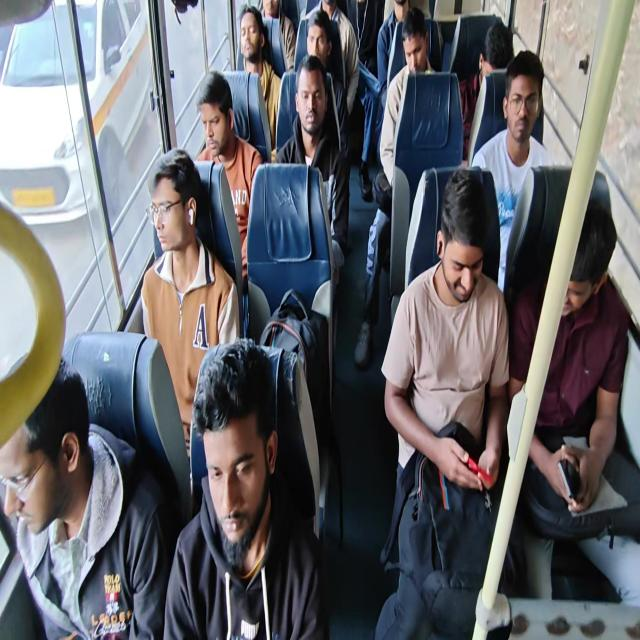person: (2, 1, 633, 638), (375, 166, 511, 638), (506, 172, 630, 600), (162, 336, 324, 638), (0, 356, 170, 639), (140, 147, 241, 498), (354, 6, 437, 369), (470, 49, 555, 294), (274, 54, 350, 274), (194, 69, 264, 285), (378, 7, 437, 189), (358, 0, 410, 202), (458, 21, 514, 158), (296, 9, 349, 153), (235, 5, 282, 150), (305, 0, 359, 115), (376, 0, 410, 92), (347, 0, 384, 75), (259, 0, 296, 74)
